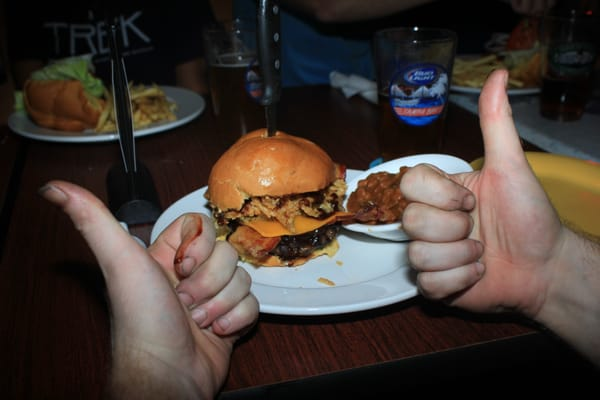pizza: (372, 25, 459, 159), (539, 1, 600, 122), (203, 23, 258, 144)
sandwich: (106, 17, 140, 176)
soup: (206, 131, 409, 266), (206, 129, 347, 267)
